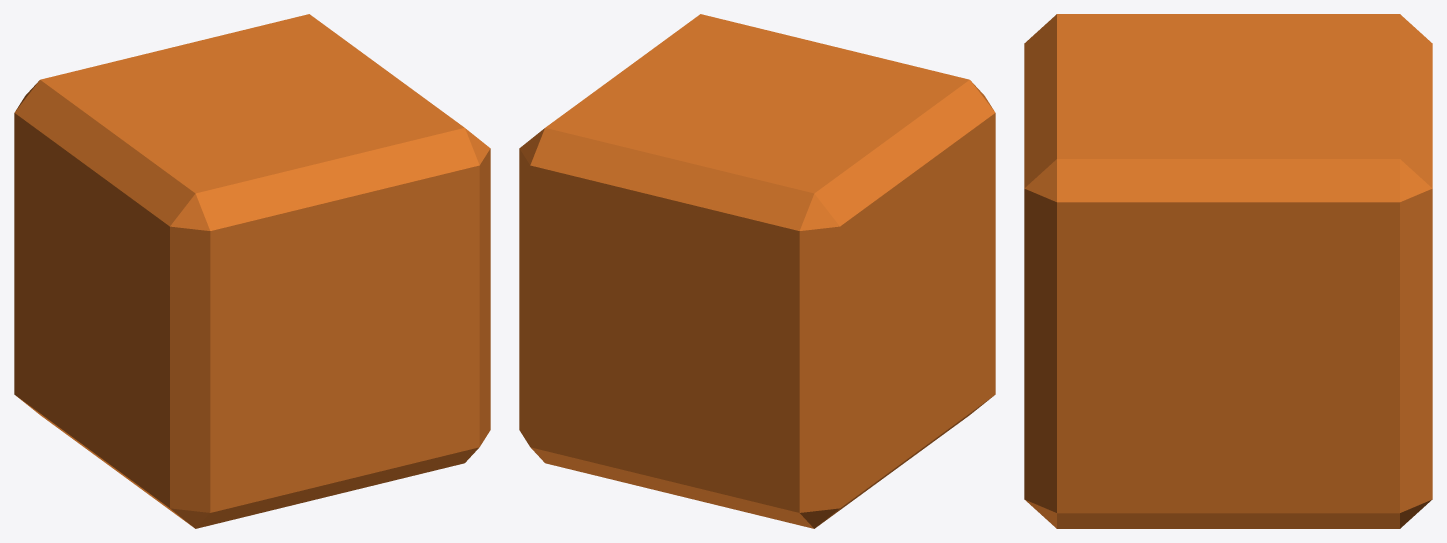
The model's file is beveled_wood_cube.obj.
3 views of the same model, side by side, from view 1: azimuth 30°, elevation 25°; view 2: azimuth 150°, elevation 25°; view 3: azimuth 270°, elevation 25° (orthographic). The views are drawn at different scales.
Parts seen in each view (by area): view 1: beveled_wood_cube; view 2: beveled_wood_cube; view 3: beveled_wood_cube.
Boxes of the visible parts, box(x1,y1,x2,y2) form: beveled_wood_cube: box(14, 14, 490, 528); beveled_wood_cube: box(519, 14, 995, 528); beveled_wood_cube: box(1024, 14, 1432, 528).
Bounding box in the file's own units: 0.05 × 0.05 × 0.05.
